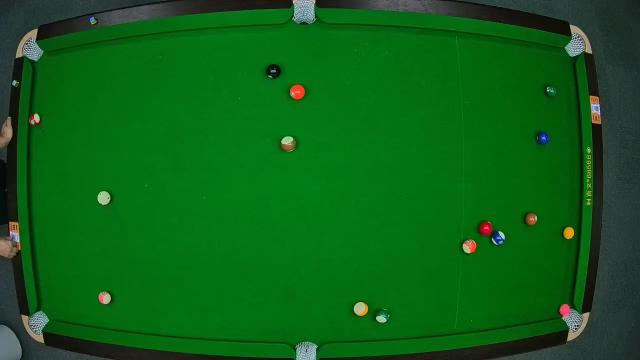bag1: (24, 40, 40, 62)
bag2: (292, 2, 316, 22)
bag3: (566, 34, 584, 56)
bag4: (27, 310, 49, 336)
bag5: (295, 342, 319, 360)
bag6: (562, 308, 584, 332)
ball0: (96, 190, 112, 206)
ball1: (562, 224, 576, 242)
ball10: (492, 229, 506, 247)
ball11: (28, 114, 42, 126)
ball12: (98, 291, 112, 307)
ball13: (462, 238, 476, 256)
ball14: (373, 308, 391, 324)
ball15: (280, 136, 296, 153)
ball2: (536, 130, 550, 146)
ball3: (478, 220, 494, 236)
ball4: (558, 302, 572, 316)
ball5: (288, 84, 306, 100)
ball7: (524, 211, 540, 227)
ball8: (544, 82, 560, 98), (266, 64, 280, 80)
ball9: (352, 301, 370, 317)
